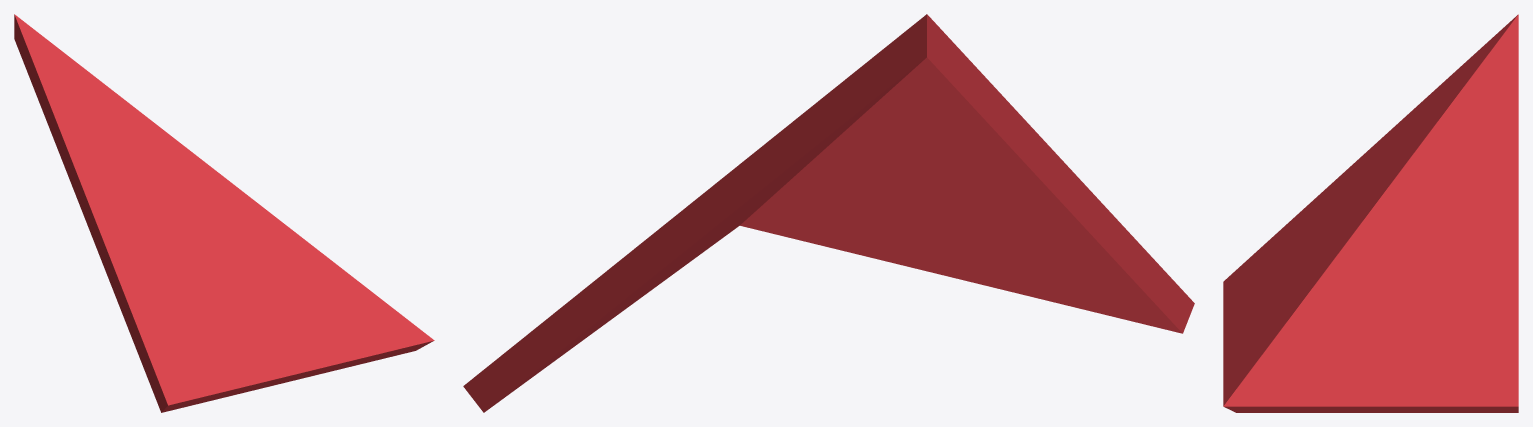
File: roof_corner_outer.glb
The picture shows the model from 3 angles, left to right: view 1: azimuth 30°, elevation 25°; view 2: azimuth 150°, elevation 25°; view 3: azimuth 270°, elevation 25°; orthographic projection. The views are drawn at different scales.
Parts seen in each view (by area): view 1: roof_corner_outer; view 2: roof_corner_outer; view 3: roof_corner_outer.
Boxes of the visible parts, x1,y1,x2,y2 form: roof_corner_outer: (14,14,434,412); roof_corner_outer: (463,14,1194,412); roof_corner_outer: (1223,14,1518,412).
Bounding box in the file's own units: 1.12 × 1.17 × 1.12.
